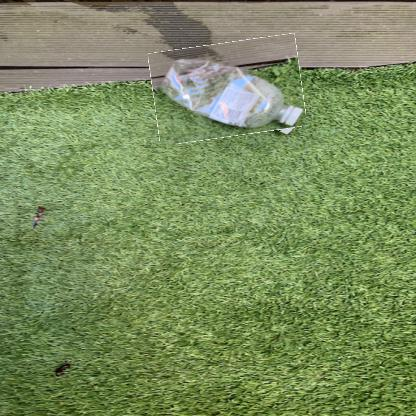plastic-bottles: (151, 38, 304, 141)
